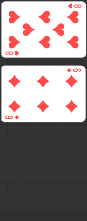6D: (5, 113, 21, 120)
8H: (67, 2, 83, 9)
